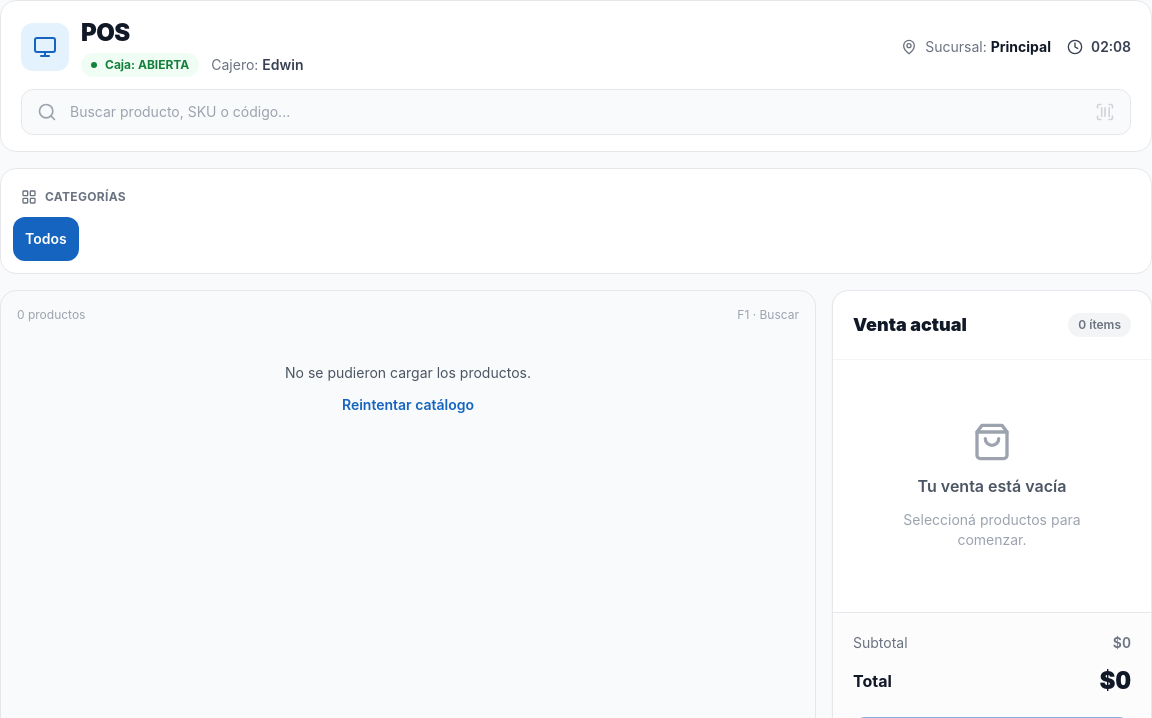
it: PosDeli catalog request › shows a product load error and retries the existing read endpoint
Expected: the text "No se pudieron cargar los productos." is shown, [285, 364, 531, 381]
Click the button "Reintentar catálogo" at (408,405), box [342, 395, 474, 415]
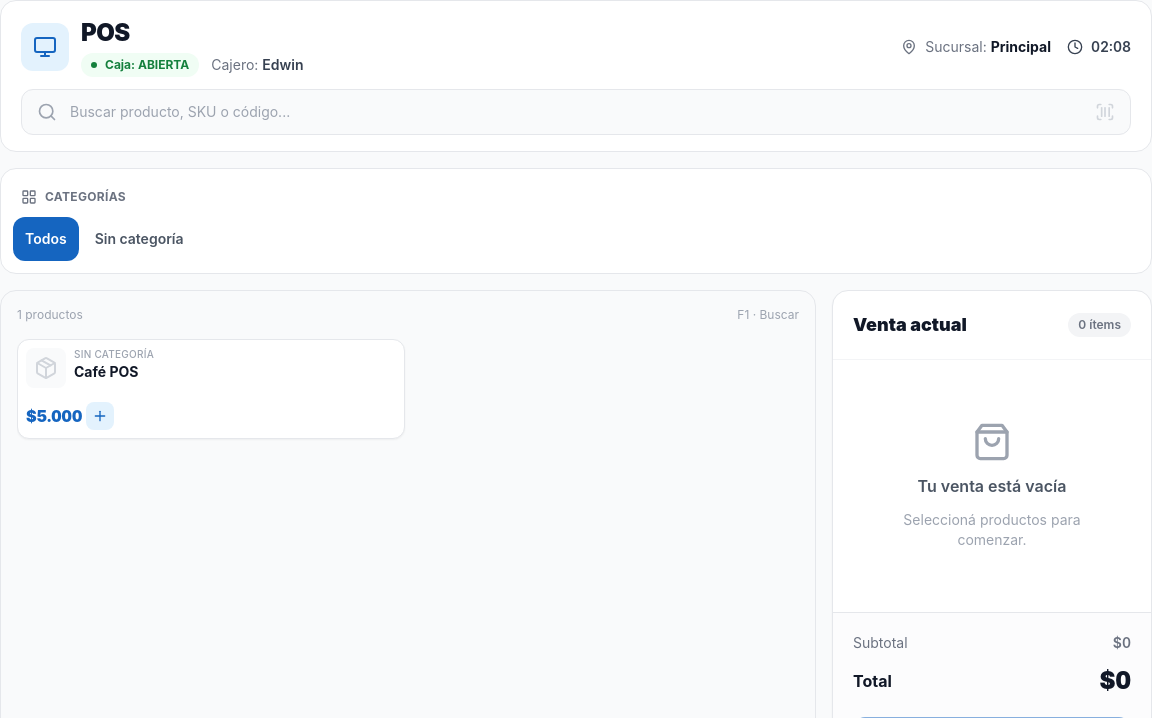
Now the text "Café POS" is shown, box [74, 363, 138, 380]
